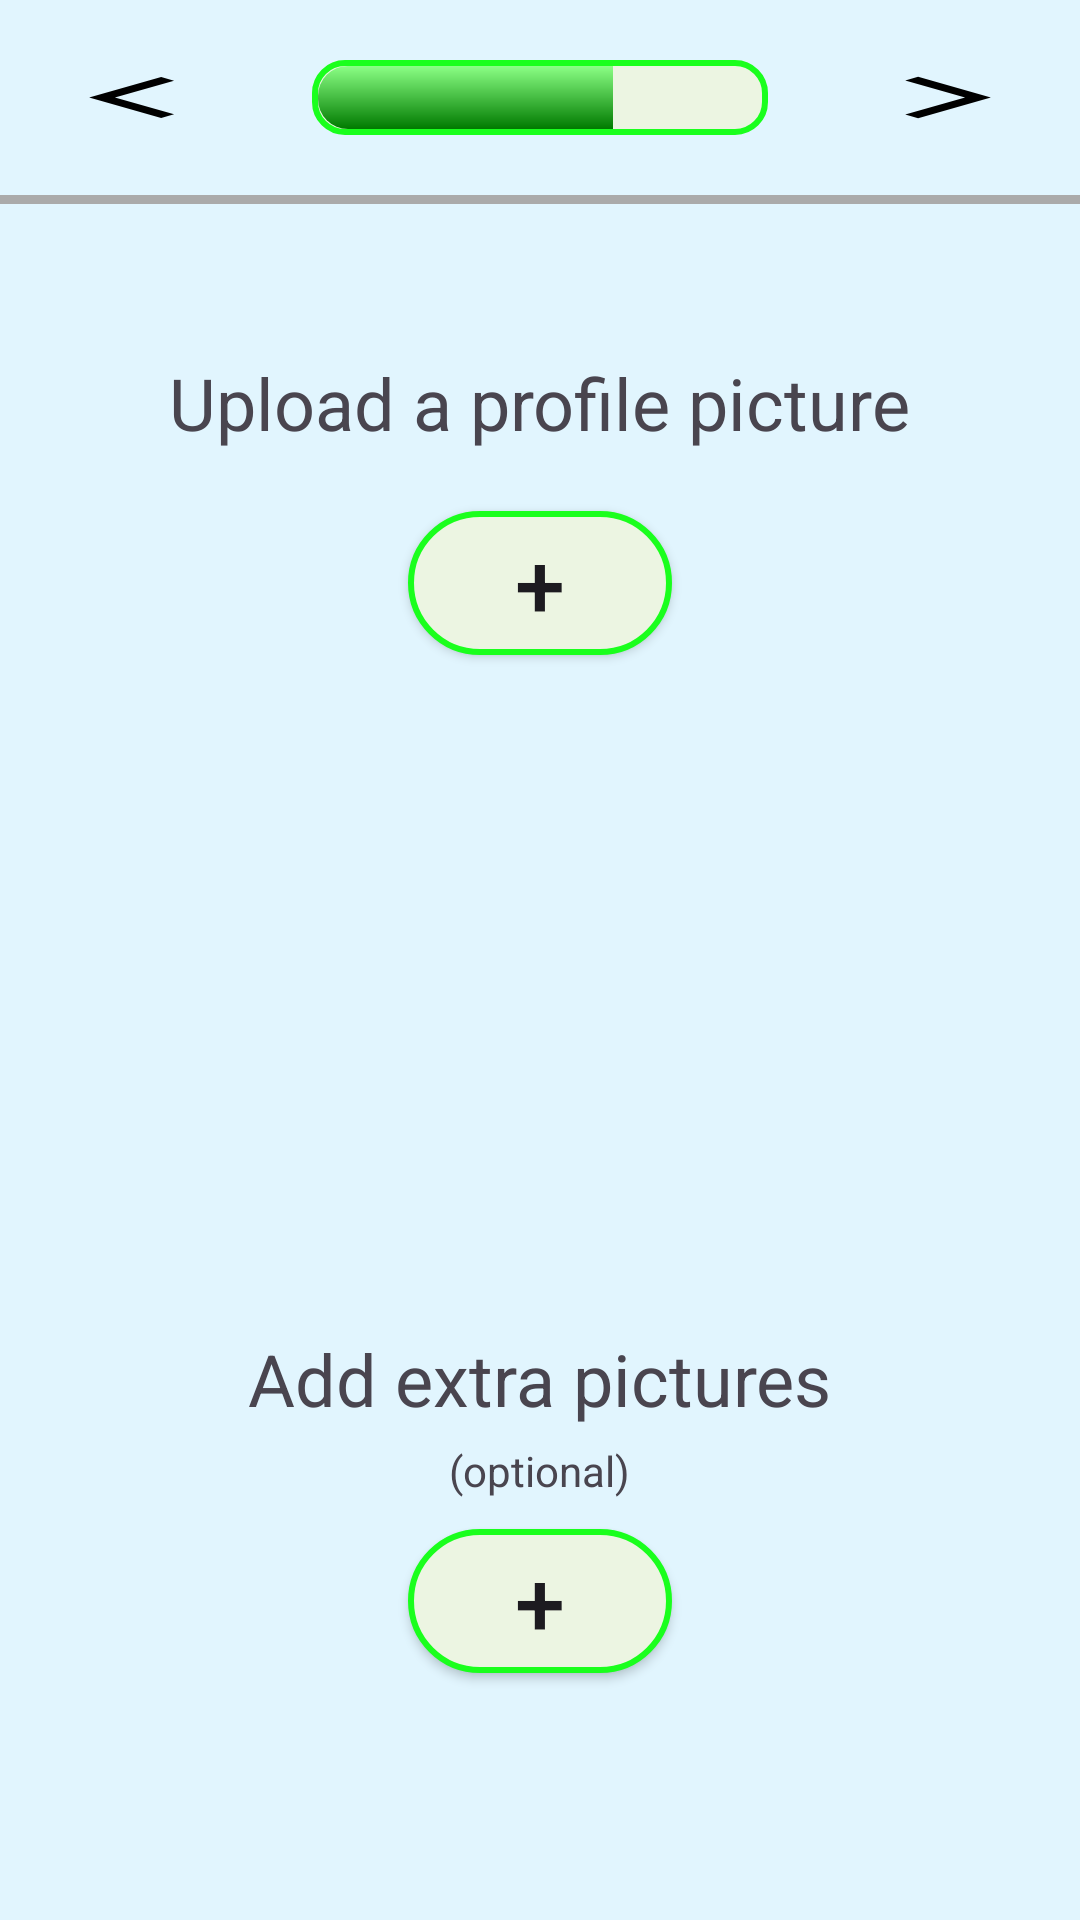

Where to tap for icons on this 1080x1920 app screen, as [x,y]:
arrow right: [948,97]
leftarrow: [131,97]
